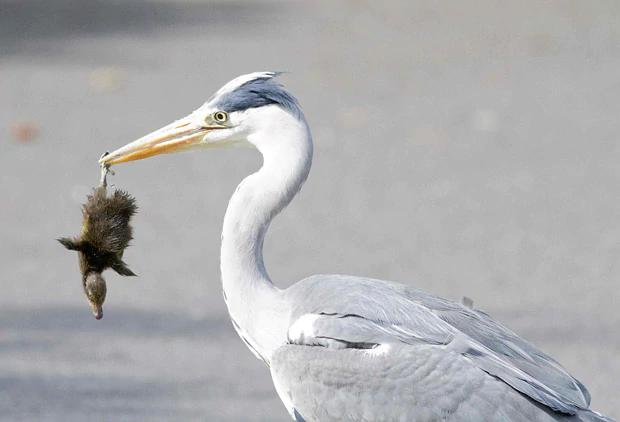heron: (66, 63, 605, 422)
